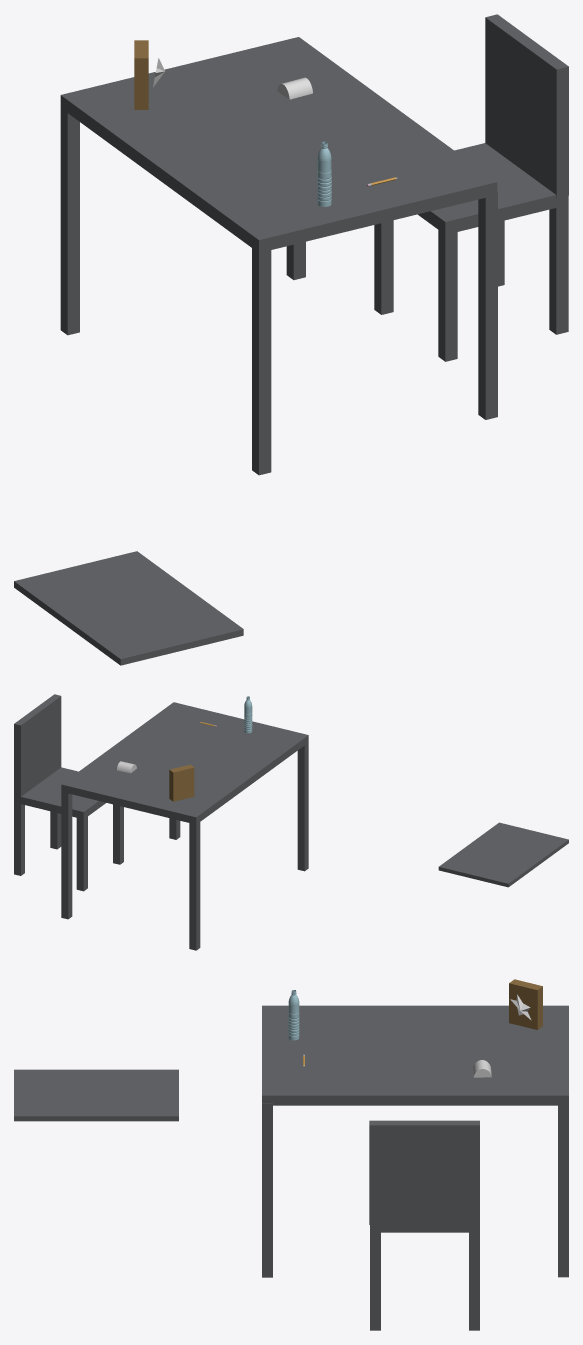
Rendered from EscritorioOficina1.glb.
3 views of the same model, one above another, from view 1: azimuth 30°, elevation 25°; view 2: azimuth 150°, elevation 25°; view 3: azimuth 270°, elevation 25° (orthographic). The views are drawn at different scales.
Visible parts, largest first — view 1: Mesh_Mesh_head_geo.001_lambert2SG.001; view 2: Mesh_Mesh_head_geo.001_lambert2SG.001; view 3: Mesh_Mesh_head_geo.001_lambert2SG.001.
Part boxes in pixels (<box>): Mesh_Mesh_head_geo.001_lambert2SG.001: <box>14,14,568,665</box>; Mesh_Mesh_head_geo.001_lambert2SG.001: <box>14,694,568,950</box>; Mesh_Mesh_head_geo.001_lambert2SG.001: <box>14,979,568,1330</box>.
Size of the model in its own units: 110 by 46 by 101.
